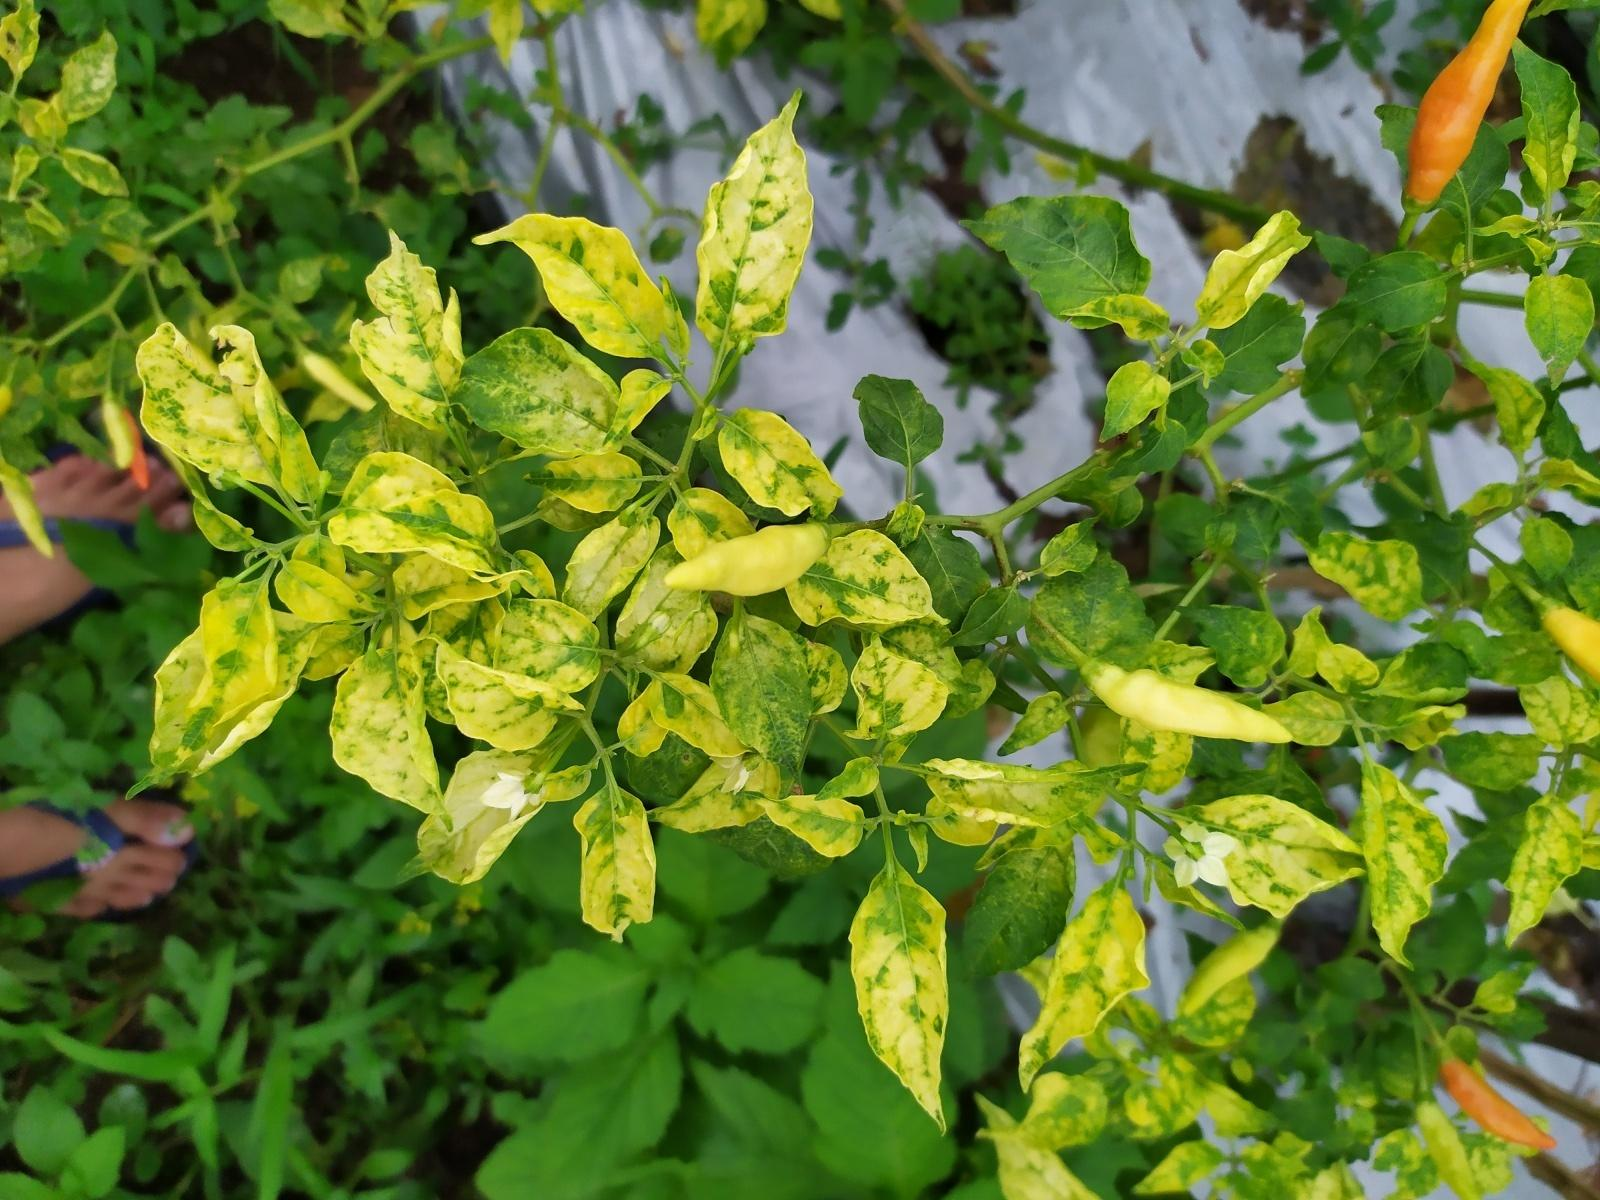cabai_normal: (1405, 0, 1533, 208), (1091, 663, 1293, 745), (663, 524, 829, 597), (1437, 1058, 1558, 1150), (1180, 925, 1279, 1016), (1414, 1100, 1478, 1199)
